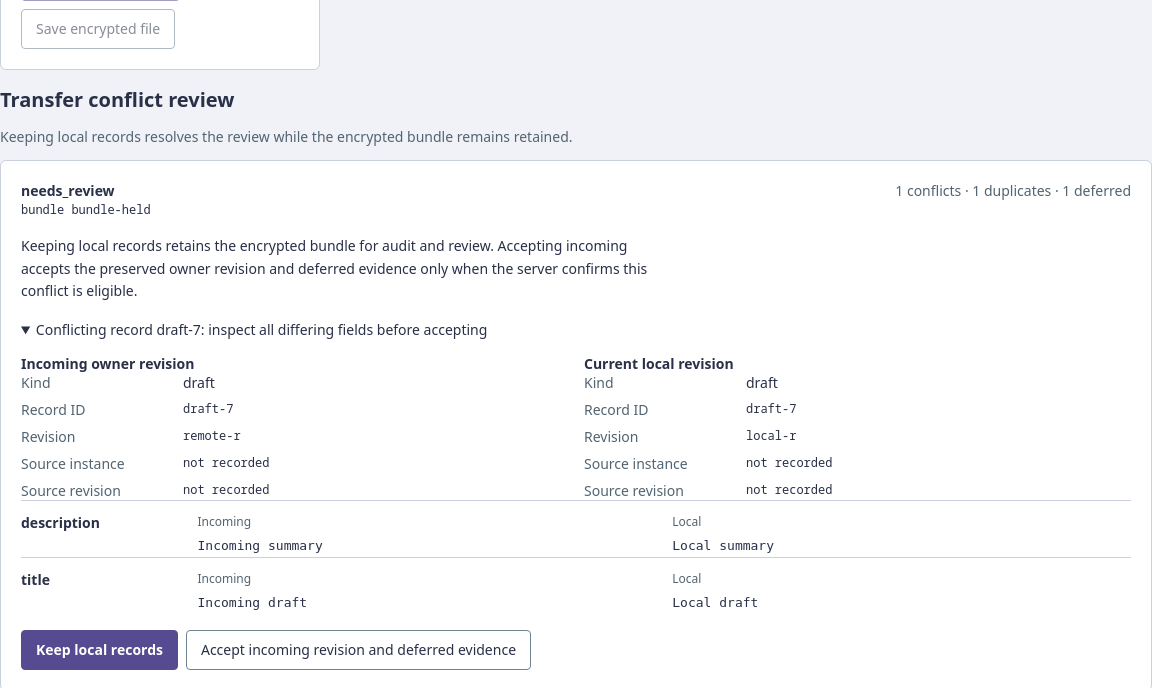
Scenario: Merlin UI contract › reviews host transfer conflicts and reloads the retained local version
(page scrolled)
Expected: the text "Incoming draft" is shown, [198,595,307,610]
Expected: the text "Local draft" is shown, [672,595,758,610]
What coordinates should you click on to do the following:
click the button "Keep local records"
I would click on:
 (100, 650)
Its box is [21,630,178,670].
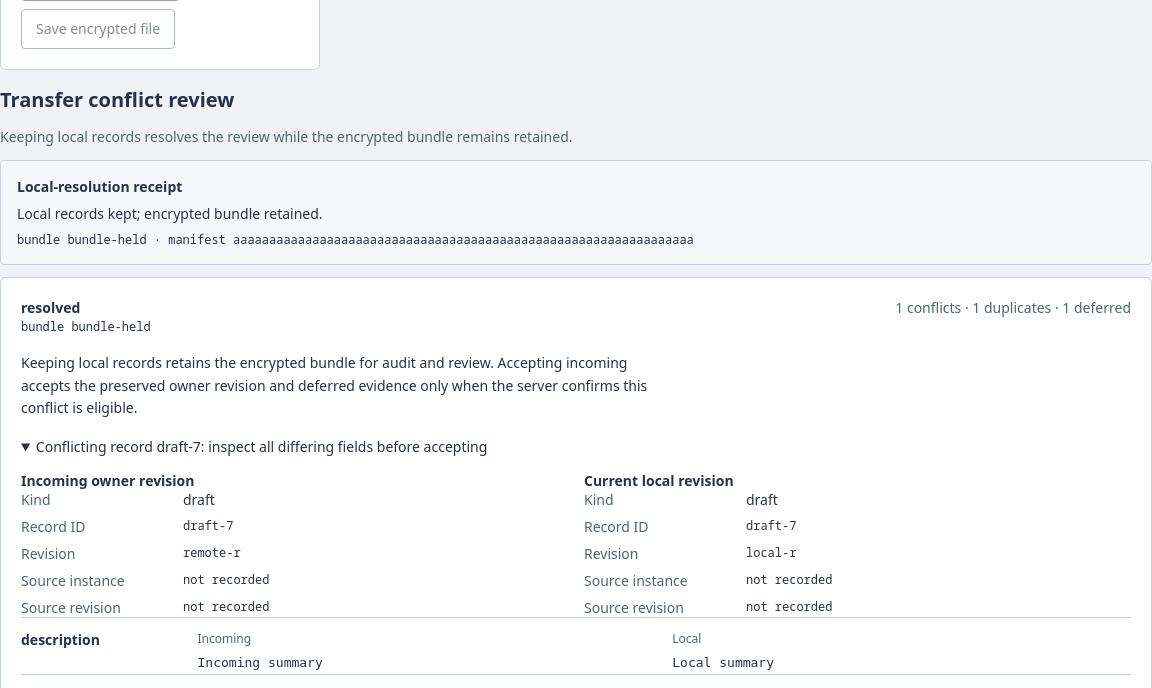
Now the text "resolved" is shown, box [21,298,80,317]
